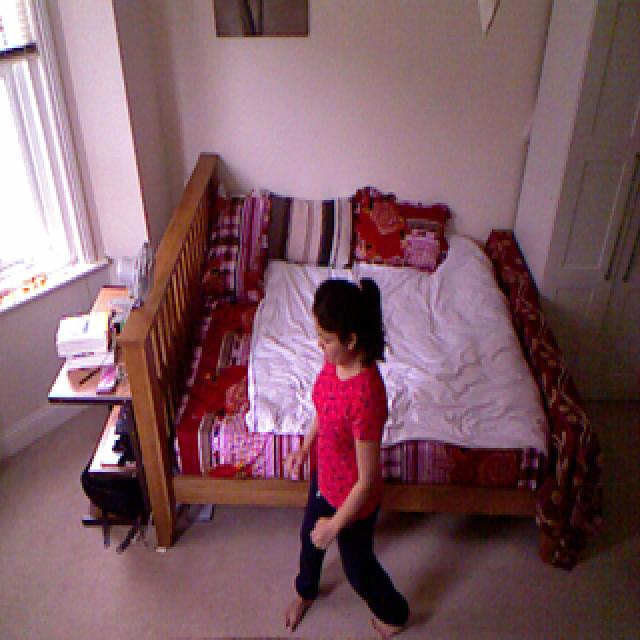standing: (300, 242, 395, 636)
